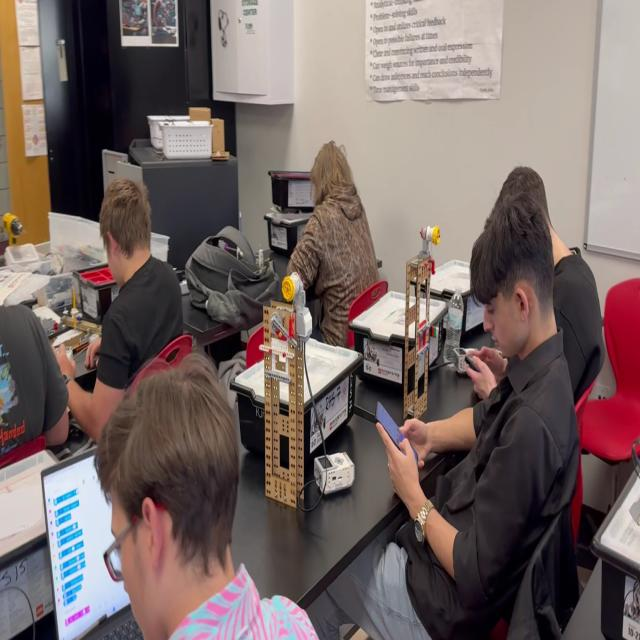pen: (374, 400, 418, 474), (465, 354, 493, 384)
